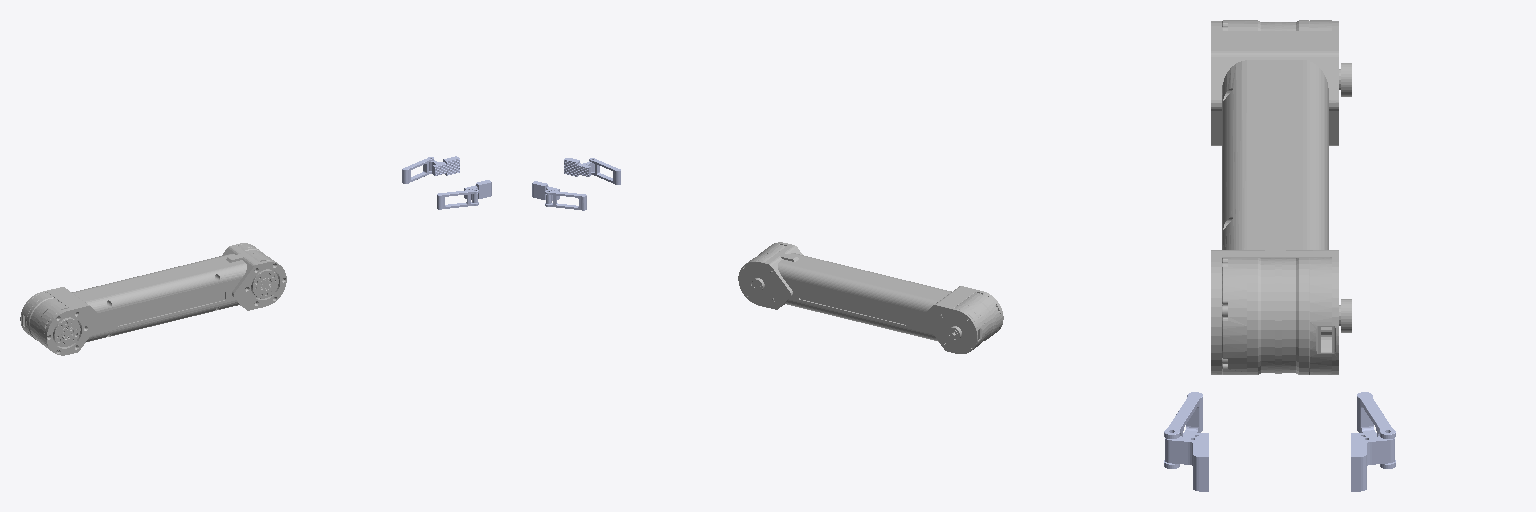
The robot description file, URDF, robot "airbot_play_inspire_eg2_4c_v2":
<?xml version="1.0" encoding="utf-8" ?>
<!-- This URDF was automatically created by SolidWorks to URDF Exporter! Originally created by [author] ([email redacted]) 
     Commit Version: 1.6.0-4-g7f85cfe  Build Version: 1.6.7995.38578
     For more information, please see http://wiki.ros.org/sw_urdf_exporter -->
<robot name="airbot_play_inspire_eg2_4c_v2">
    <link name="base_link">
        <inertial>
            <origin xyz="-2.9949E-05 3.0537E-05 0.027284" rpy="0 0 0" />
            <mass value="0.44071" />
            <inertia ixx="0.00017392" ixy="-3.5E-07" ixz="-5.9E-07" iyy="0.00017547" iyz="1.13E-06" izz="0.00015925" />
        </inertial>
        <visual>
            <origin xyz="0 0 0" rpy="0 0 0" />
            <geometry>
                <mesh filename="package://airbot_play_inspire_eg2_4c_v2/meshes/base_link.STL" />
            </geometry>
            <material name="">
                <color rgba="0.75294 0.75294 0.75294 1" />
            </material>
        </visual>
        <collision>
            <origin xyz="0 0 0" rpy="0 0 0" />
            <geometry>
                <mesh filename="package://airbot_play_inspire_eg2_4c_v2/meshes/base_link.STL" />
            </geometry>
        </collision>
    </link>
    <link name="link1">
        <inertial>
            <origin xyz="-0.00011034 -6.8411E-06 -0.023655" rpy="0 0 0" />
            <mass value="0.078163" />
            <inertia ixx="9.22E-05" ixy="-1E-08" ixz="5E-08" iyy="3.014E-05" iyz="-7.4E-07" izz="8.652E-05" />
        </inertial>
        <visual>
            <origin xyz="0 0 0" rpy="0 0 0" />
            <geometry>
                <mesh filename="package://airbot_play_inspire_eg2_4c_v2/meshes/link1.STL" />
            </geometry>
            <material name="">
                <color rgba="0.75294 0.75294 0.75294 1" />
            </material>
        </visual>
        <collision>
            <origin xyz="0 0 0" rpy="0 0 0" />
            <geometry>
                <mesh filename="package://airbot_play_inspire_eg2_4c_v2/meshes/link1.STL" />
            </geometry>
        </collision>
    </link>
    <joint name="joint1" type="revolute">
        <origin xyz="0 0 0.1005" rpy="0 0 0" />
        <parent link="base_link" />
        <child link="link1" />
        <axis xyz="0 0 1" />
        <limit lower="-10" upper="10" effort="100" velocity="110" />
    </joint>
    <link name="link2">
        <inertial>
            <origin xyz="0.13157 0.00062386 -0.0022903" rpy="0 0 0" />
            <mass value="1.0604" />
            <inertia ixx="0.00049116" ixy="5.47E-06" ixz="6.4E-07" iyy="0.01580055" iyz="1.04E-06" izz="0.01574902" />
        </inertial>
        <visual>
            <origin xyz="0 0 0" rpy="0 0 0" />
            <geometry>
                <mesh filename="package://airbot_play_inspire_eg2_4c_v2/meshes/link2.STL" />
            </geometry>
            <material name="">
                <color rgba="0.75294 0.75294 0.75294 1" />
            </material>
        </visual>
        <collision>
            <origin xyz="0 0 0" rpy="0 0 0" />
            <geometry>
                <mesh filename="package://airbot_play_inspire_eg2_4c_v2/meshes/link2.STL" />
            </geometry>
        </collision>
    </link>
    <joint name="joint2" type="revolute">
        <origin xyz="0 0 0" rpy="-1.5708 0 3.1416" />
        <parent link="link1" />
        <child link="link2" />
        <axis xyz="0 0 1" />
        <limit lower="-10" upper="10" effort="100" velocity="110" />
    </joint>
    <link name="link3">
        <inertial>
            <origin xyz="0.18065 0.0086528 0.0017767" rpy="0 0 0" />
            <mass value="0.55999" />
            <inertia ixx="0.00044245" ixy="-0.00043669" ixz="-9.35E-06" iyy="0.0052357" iyz="-9.31E-06" izz="0.0052474" />
        </inertial>
        <visual>
            <origin xyz="0 0 0" rpy="0 0 0" />
            <geometry>
                <mesh filename="package://airbot_play_inspire_eg2_4c_v2/meshes/link3.STL" />
            </geometry>
            <material name="">
                <color rgba="0.75294 0.75294 0.75294 1" />
            </material>
        </visual>
        <collision>
            <origin xyz="0 0 0" rpy="0 0 0" />
            <geometry>
                <mesh filename="package://airbot_play_inspire_eg2_4c_v2/meshes/link3.STL" />
            </geometry>
        </collision>
    </link>
    <joint name="joint3" type="revolute">
        <origin xyz="0.264 0 0" rpy="0 0 -2.9159" />
        <parent link="link2" />
        <child link="link3" />
        <axis xyz="0 0 1" />
        <limit lower="-10" upper="10" effort="100" velocity="110" />
    </joint>
    <link name="link4">
        <inertial>
            <origin xyz="0.054496 -0.0020302 0.0011432" rpy="0 0 0" />
            <mass value="0.34333" />
            <inertia ixx="0.00017672" ixy="2.2E-06" ixz="-1.227E-05" iyy="0.00026353" iyz="-5.14E-06" izz="0.00022296" />
        </inertial>
        <visual>
            <origin xyz="0 0 0" rpy="0 0 0" />
            <geometry>
                <mesh filename="package://airbot_play_inspire_eg2_4c_v2/meshes/link4.STL" />
            </geometry>
            <material name="">
                <color rgba="0.75294 0.75294 0.75294 1" />
            </material>
        </visual>
        <collision>
            <origin xyz="0 0 0" rpy="0 0 0" />
            <geometry>
                <mesh filename="package://airbot_play_inspire_eg2_4c_v2/meshes/link4.STL" />
            </geometry>
        </collision>
    </link>
    <joint name="joint4" type="revolute">
        <origin xyz="0.25137 0 -0.002" rpy="0 0 -0.22569" />
        <parent link="link3" />
        <child link="link4" />
        <axis xyz="0 0 1" />
        <limit lower="-10" upper="10" effort="100" velocity="110" />
    </joint>
    <link name="link5">
        <inertial>
            <origin xyz="-0.00042679 0.053307 0.00073106" rpy="0 0 0" />
            <mass value="0.33126" />
            <inertia ixx="0.00040201" ixy="1.6E-06" ixz="-5.07E-06" iyy="0.00042082" iyz="1.75E-06" izz="0.00036657" />
        </inertial>
        <visual>
            <origin xyz="0 0 0" rpy="0 0 0" />
            <geometry>
                <mesh filename="package://airbot_play_inspire_eg2_4c_v2/meshes/link5.STL" />
            </geometry>
            <material name="">
                <color rgba="0.75294 0.75294 0.75294 1" />
            </material>
        </visual>
        <collision>
            <origin xyz="0 0 0" rpy="0 0 0" />
            <geometry>
                <mesh filename="package://airbot_play_inspire_eg2_4c_v2/meshes/link5.STL" />
            </geometry>
        </collision>
    </link>
    <joint name="joint5" type="revolute">
        <origin xyz="0.06 0 0" rpy="-1.5708 -1.5708 0" />
        <parent link="link4" />
        <child link="link5" />
        <axis xyz="0 0 1" />
        <limit lower="-10" upper="10" effort="100" velocity="110" />
    </joint>
    <link name="gripper_link">
        <inertial>
            <origin xyz="-0.000179 -0.012920 0.118245" rpy="0 0 0" />
            <mass value="0.202483822224683" />
            <inertia ixx="8.72656224038094E-05" ixy="2.1157802312087E-09" ixz="4.46212258304102E-07" iyy="0.000110884338373626" iyz="3.53923491606382E-06" izz="9.50216775187288E-05" />
        </inertial>
        <visual>
            <origin xyz="0 0 0" rpy="0 0 0" />
            <geometry>
                <mesh filename="package://airbot_play_inspire_eg2_4c_v2/meshes/gripper_link.STL" />
            </geometry>
            <material name="">
                <color rgba="0.792156862745098 0.819607843137255 0.933333333333333 1" />
            </material>
        </visual>
        <collision>
            <origin xyz="0 0 0" rpy="0 0 0" />
            <geometry>
                <mesh filename="package://airbot_play_inspire_eg2_4c_v2/meshes/gripper_link.STL" />
            </geometry>
        </collision>
    </link>
    <joint name="joint6" type="revolute">
        <origin xyz="0 0 0" rpy="-1.5708 0 0" />
        <parent link="link5" />
        <child link="gripper_link" />
        <axis xyz="0 0 1" />
        <limit lower="-10" upper="10" effort="100" velocity="1000" />
    </joint>
    <link name="gripper_link10">
        <inertial>
            <origin xyz="0.0162376775855017 0.00170828143838967 1.60704782814491E-14" rpy="0 0 0" />
            <mass value="0.00248574193257273" />
            <inertia ixx="1.1187321281772E-07" ixy="-6.68088965340704E-19" ixz="-1.14085928959275E-18" iyy="6.84359115875508E-07" iyz="-3.99246934174549E-19" izz="5.89072994948579E-07" />
        </inertial>
        <visual>
            <origin xyz="0 0 0" rpy="0 0 0" />
            <geometry>
                <mesh filename="package://airbot_play_inspire_eg2_4c_v2/meshes/gripper_link10.STL" />
            </geometry>
            <material name="">
                <color rgba="0.792156862745098 0.819607843137255 0.933333333333333 1" />
            </material>
        </visual>
        <collision>
            <origin xyz="0 0 0" rpy="0 0 0" />
            <geometry>
                <mesh filename="package://airbot_play_inspire_eg2_4c_v2/meshes/gripper_link10.STL" />
            </geometry>
        </collision>
    </link>
    <joint name="joint_gripper10" type="revolute">
        <origin xyz="-0.038533 0.00036 0.18735" rpy="-1.5708 -1.304 3.1416" />
        <parent link="gripper_link" />
        <child link="gripper_link10" />
        <axis xyz="0 0 1" />
        <limit lower="-10" upper="10" effort="100" velocity="110" />
    </joint>
    <link name="gripper_link11">
        <inertial>
            <origin xyz="-0.0110043692378349 0.00972866237979003 -3.15436854414486E-09" rpy="0 0 0" />
            <mass value="0.00450681926243327" />
            <inertia ixx="1.99225999101227E-07" ixy="9.189631443366E-08" ixz="1.32669175648538E-13" iyy="5.14550853833888E-07" iyz="-4.49972931710022E-14" izz="5.32027763416069E-07" />
        </inertial>
        <visual>
            <origin xyz="0 0 0" rpy="0 0 0" />
            <geometry>
                <mesh filename="package://airbot_play_inspire_eg2_4c_v2/meshes/gripper_link11.STL" />
            </geometry>
            <material name="">
                <color rgba="0.792156862745098 0.819607843137255 0.933333333333333 1" />
            </material>
        </visual>
        <collision>
            <origin xyz="0 0 0" rpy="0 0 0" />
            <geometry>
                <mesh filename="package://airbot_play_inspire_eg2_4c_v2/meshes/gripper_link11.STL" />
            </geometry>
        </collision>
    </link>
    <joint name="joint_gripper11" type="revolute">
        <origin xyz="0.041998 -0.00037577 0" rpy="0 0 2.8658" />
        <parent link="gripper_link10" />
        <child link="gripper_link11" />
        <axis xyz="0 0 1" />
        <limit lower="-10" upper="10" effort="100" velocity="110" />
    </joint>
    <link name="gripper_link20">
        <inertial>
            <origin xyz="0.0160458916846533 0.00170815882510347 -1.61815005839117E-14" rpy="0 0 0" />
            <mass value="0.0024857419325728" />
            <inertia ixx="1.11873212817726E-07" ixy="6.5445041140093E-19" ixz="1.13838047913434E-18" iyy="6.84359115875493E-07" iyz="-3.98790262211301E-19" izz="5.8907299494856E-07" />
        </inertial>
        <visual>
            <origin xyz="0 0 0" rpy="0 0 0" />
            <geometry>
                <mesh filename="package://airbot_play_inspire_eg2_4c_v2/meshes/gripper_link20.STL" />
            </geometry>
            <material name="">
                <color rgba="0.792156862745098 0.819607843137255 0.933333333333333 1" />
            </material>
        </visual>
        <collision>
            <origin xyz="0 0 0" rpy="0 0 0" />
            <geometry>
                <mesh filename="package://airbot_play_inspire_eg2_4c_v2/meshes/gripper_link20.STL" />
            </geometry>
        </collision>
    </link>
    <joint name="joint_gripper20" type="revolute">
        <origin xyz="0.041464 0.00036 0.18664" rpy="1.5708 -1.304 0" />
        <parent link="gripper_link" />
        <child link="gripper_link20" />
        <axis xyz="0 0 1" />
        <limit lower="-10" upper="10" effort="100" velocity="110" />
    </joint>
    <link name="gripper_link21">
        <inertial>
            <origin xyz="-0.0117059608928904 -0.0140030860218414 3.11077152925776E-09" rpy="0 0 0" />
            <mass value="0.00450681912675432" />
            <inertia ixx="2.02615006762524E-07" ixy="-9.74786442765277E-08" ixz="-1.30502494006714E-13" iyy="5.11161832405036E-07" iyz="-4.71432886532517E-14" izz="5.32027750665231E-07" />
        </inertial>
        <visual>
            <origin xyz="0 0 0" rpy="0 0 0" />
            <geometry>
                <mesh filename="package://airbot_play_inspire_eg2_4c_v2/meshes/gripper_link21.STL" />
            </geometry>
            <material name="">
                <color rgba="0.792156862745098 0.819607843137255 0.933333333333333 1" />
            </material>
        </visual>
        <collision>
            <origin xyz="0 0 0" rpy="0 0 0" />
            <geometry>
                <mesh filename="package://airbot_play_inspire_eg2_4c_v2/meshes/gripper_link21.STL" />
            </geometry>
        </collision>
    </link>
    <joint name="joint_gripper21" type="revolute">
        <origin xyz="0.041998 -0.00037577 0" rpy="0 0 -2.8837" />
        <parent link="gripper_link20" />
        <child link="gripper_link21" />
        <axis xyz="0 0 1" />
        <limit lower="-10" upper="10" effort="100" velocity="110" />
    </joint>
    <link name="custom_end_link">
        <inertial>
            <origin xyz="0 0 0" rpy="0 0 0" />
            <mass value="1E-15" />
            <inertia ixx="1E-11" ixy="1E-15" ixz="1E-15" iyy="1E-11" iyz="1E-15" izz="1E-11" />
        </inertial>
    </link>
    <joint name="joint_custom_end" type="fixed">
        <origin xyz="0 0 0.255" rpy="1.5708 -1.5708 0" />
        <parent link="gripper_link" />
        <child link="custom_end_link" />
    </joint>
    <transmission name="trans_joint1">
        <type>transmission_interface/SimpleTransmission</type>
        <joint name="joint1">
            <hardwareInterface>hardware_interface/PositionJointInterface</hardwareInterface>
        </joint>
        <actuator name="joint1_motor">
            <hardwareInterface>hardware_interface/PositionJointInterface</hardwareInterface>
            <mechanicalReduction>1</mechanicalReduction>
        </actuator>
    </transmission>
    <transmission name="trans_joint2">
        <type>transmission_interface/SimpleTransmission</type>
        <joint name="joint2">
            <hardwareInterface>hardware_interface/PositionJointInterface</hardwareInterface>
        </joint>
        <actuator name="joint2_motor">
            <hardwareInterface>hardware_interface/PositionJointInterface</hardwareInterface>
            <mechanicalReduction>1</mechanicalReduction>
        </actuator>
    </transmission>
    <transmission name="trans_joint3">
        <type>transmission_interface/SimpleTransmission</type>
        <joint name="joint3">
            <hardwareInterface>hardware_interface/PositionJointInterface</hardwareInterface>
        </joint>
        <actuator name="joint3_motor">
            <hardwareInterface>hardware_interface/PositionJointInterface</hardwareInterface>
            <mechanicalReduction>1</mechanicalReduction>
        </actuator>
    </transmission>
    <transmission name="trans_joint4">
        <type>transmission_interface/SimpleTransmission</type>
        <joint name="joint4">
            <hardwareInterface>hardware_interface/PositionJointInterface</hardwareInterface>
        </joint>
        <actuator name="joint4_motor">
            <hardwareInterface>hardware_interface/PositionJointInterface</hardwareInterface>
            <mechanicalReduction>1</mechanicalReduction>
        </actuator>
    </transmission>
    <transmission name="trans_joint5">
        <type>transmission_interface/SimpleTransmission</type>
        <joint name="joint5">
            <hardwareInterface>hardware_interface/PositionJointInterface</hardwareInterface>
        </joint>
        <actuator name="joint5_motor">
            <hardwareInterface>hardware_interface/PositionJointInterface</hardwareInterface>
            <mechanicalReduction>1</mechanicalReduction>
        </actuator>
    </transmission>
    <transmission name="trans_joint6">
        <type>transmission_interface/SimpleTransmission</type>
        <joint name="joint6">
            <hardwareInterface>hardware_interface/PositionJointInterface</hardwareInterface>
        </joint>
        <actuator name="joint6_motor">
            <hardwareInterface>hardware_interface/PositionJointInterface</hardwareInterface>
            <mechanicalReduction>1</mechanicalReduction>
        </actuator>
    </transmission>
    <transmission name="trans_joint_gripper10">
        <type>transmission_interface/SimpleTransmission</type>
        <joint name="joint_gripper10">
            <hardwareInterface>hardware_interface/EffortJointInterface</hardwareInterface>
        </joint>
        <actuator name="joint_gripper10_motor">
            <hardwareInterface>hardware_interface/EffortJointInterface</hardwareInterface>
            <mechanicalReduction>1</mechanicalReduction>
        </actuator>
    </transmission>
    <transmission name="trans_joint_gripper11">
        <type>transmission_interface/SimpleTransmission</type>
        <joint name="joint_gripper11">
            <hardwareInterface>hardware_interface/EffortJointInterface</hardwareInterface>
        </joint>
        <actuator name="joint_gripper11_motor">
            <hardwareInterface>hardware_interface/EffortJointInterface</hardwareInterface>
            <mechanicalReduction>1</mechanicalReduction>
        </actuator>
    </transmission>
    <transmission name="trans_joint_gripper20">
        <type>transmission_interface/SimpleTransmission</type>
        <joint name="joint_gripper20">
            <hardwareInterface>hardware_interface/EffortJointInterface</hardwareInterface>
        </joint>
        <actuator name="joint_gripper20_motor">
            <hardwareInterface>hardware_interface/EffortJointInterface</hardwareInterface>
            <mechanicalReduction>1</mechanicalReduction>
        </actuator>
    </transmission>
    <transmission name="trans_joint_gripper21">
        <type>transmission_interface/SimpleTransmission</type>
        <joint name="joint_gripper21">
            <hardwareInterface>hardware_interface/EffortJointInterface</hardwareInterface>
        </joint>
        <actuator name="joint_gripper21_motor">
            <hardwareInterface>hardware_interface/EffortJointInterface</hardwareInterface>
            <mechanicalReduction>1</mechanicalReduction>
        </actuator>
    </transmission>
    <gazebo>
        <plugin name="gazebo_ros_control">
            <robotNamespace>/</robotNamespace>
        </plugin>
    </gazebo>
</robot>

--- Facts derived from the render (not from the file) ---
Views: 3 orthographic renders of the robot side by side, from view 1: azimuth 30°, elevation 25°; view 2: azimuth 150°, elevation 25°; view 3: azimuth 270°, elevation 25°.
Model airbot_play_inspire_eg2_4c_v2 with 12 links and 11 joints (10 revolute, 1 fixed), rooted at base_link, posed every joint at zero.
Visible links, largest first — view 1: link2; view 2: link2; view 3: link2, gripper_link11, gripper_link21, gripper_link10, gripper_link20.
Link boxes in pixels (box(x1,y1,x2,y2)): link2: box(20, 243, 286, 355); link2: box(738, 242, 1003, 353); link2: box(1211, 20, 1351, 374); gripper_link11: box(1351, 433, 1394, 491); gripper_link21: box(1165, 433, 1208, 491); gripper_link10: box(1357, 392, 1395, 468); gripper_link20: box(1164, 392, 1202, 468).
Bounding box of the posed robot: 0.589 × 0.1096 × 0.0929 m (x, y, z).
Meshes: 11 distinct files referenced, 5 mesh visuals loaded (5 binary STL); not drawn: 6 (reference not matched to a file when rendering).